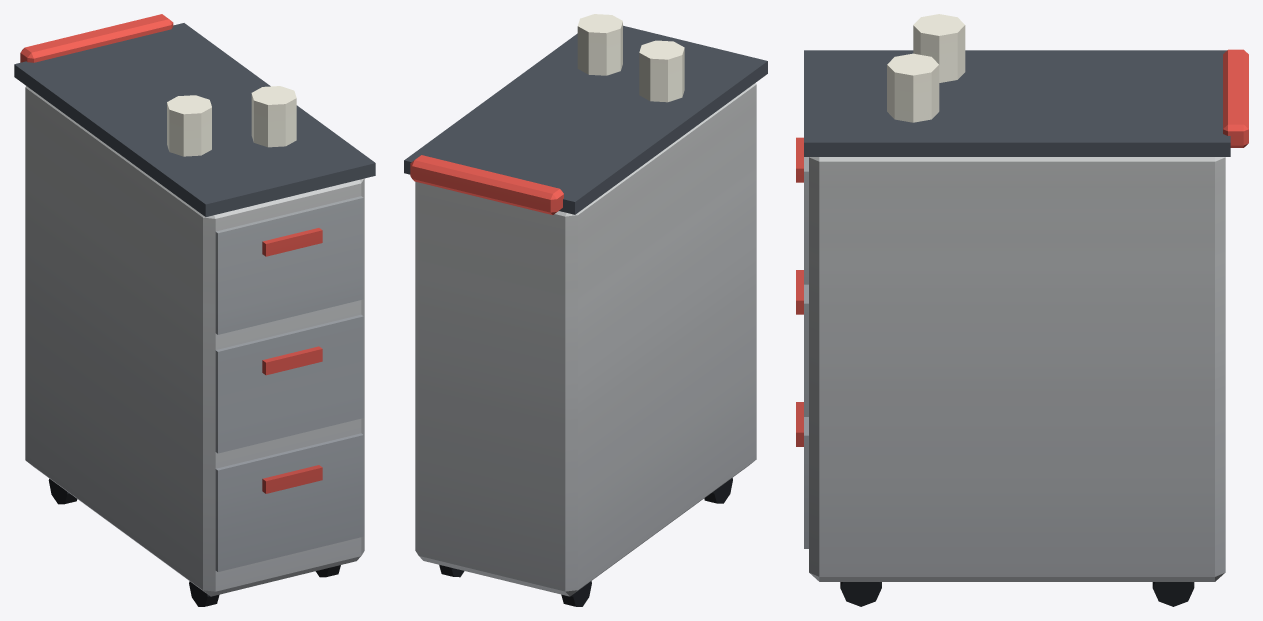
File: Carrinho.fbx
3 views of the same model, side by side, from view 1: azimuth 30°, elevation 25°; view 2: azimuth 150°, elevation 25°; view 3: azimuth 270°, elevation 25° (orthographic). The views are drawn at different scales.
Visible parts, largest first — view 1: Carrinho_Malha; view 2: Carrinho_Malha; view 3: Carrinho_Malha.
Boxes of the visible parts, x1,y1,x2,y2 form: Carrinho_Malha: (14,14,375,606); Carrinho_Malha: (404,14,767,606); Carrinho_Malha: (796,14,1248,606).
Bounding box in the file's own units: 0.42 × 1.11 × 0.87.
